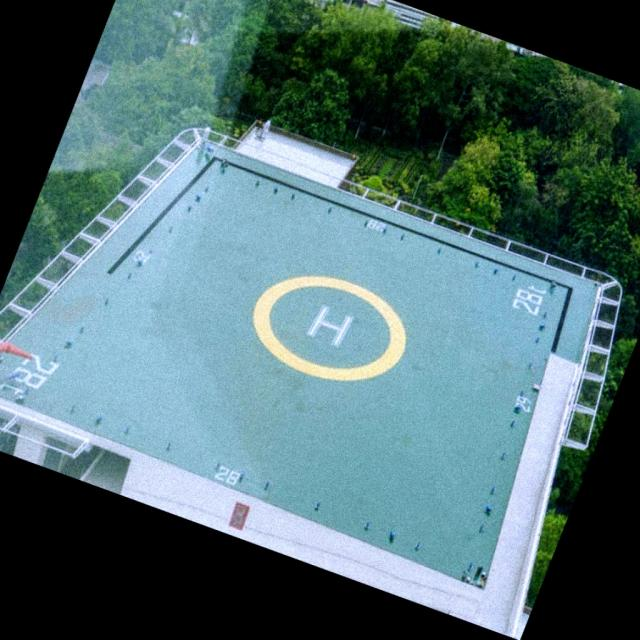helipad: (248, 269, 411, 384)
